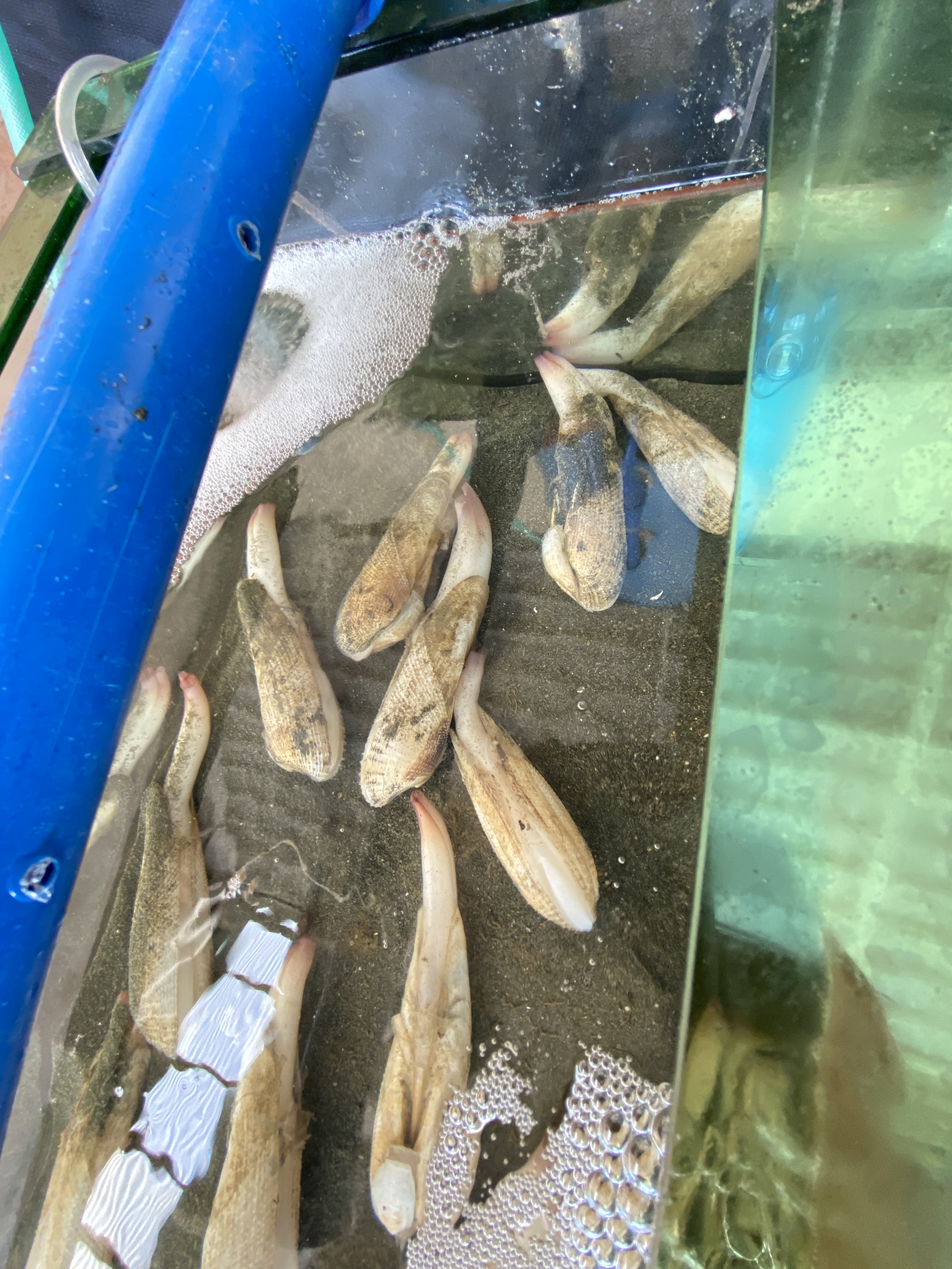Healthy: (369, 791, 471, 1240), (452, 650, 598, 931), (128, 671, 212, 1058), (334, 431, 473, 660), (581, 369, 737, 534), (535, 353, 626, 610), (247, 503, 293, 610)
